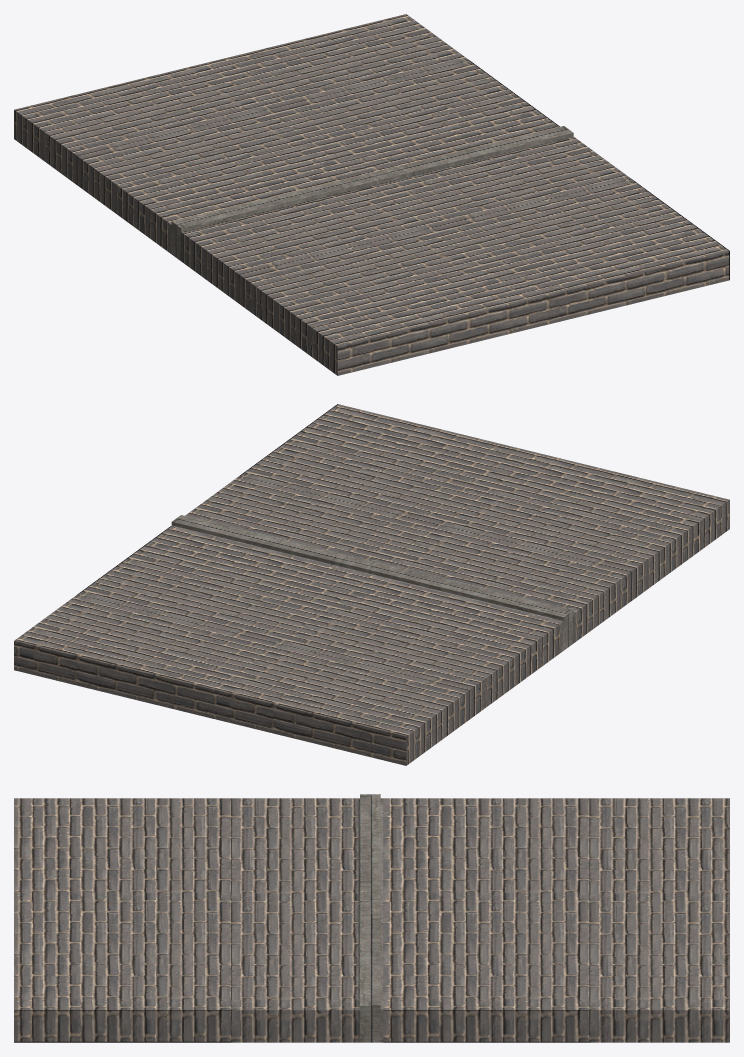
The model's file is Wall_Large.FBX.
3 views of the same model, one above another, from view 1: azimuth 30°, elevation 25°; view 2: azimuth 150°, elevation 25°; view 3: azimuth 270°, elevation 25° (orthographic). The views are drawn at different scales.
Parts seen in each view (by area): view 1: Wall_Large; view 2: Wall_Large; view 3: Wall_Large.
Part boxes in pixels (box(x1,y1,x2,y2)): Wall_Large: box(14, 14, 729, 375); Wall_Large: box(14, 404, 729, 765); Wall_Large: box(14, 794, 729, 1042).
Bounding box in the file's own units: 448 × 36 × 640.
